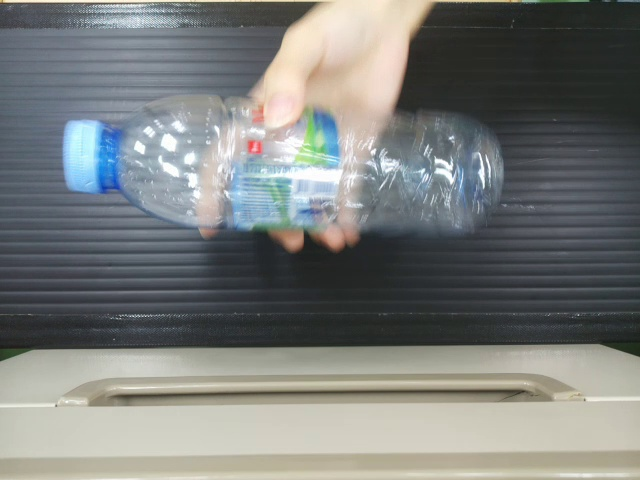bottle: (60, 83, 507, 242)
